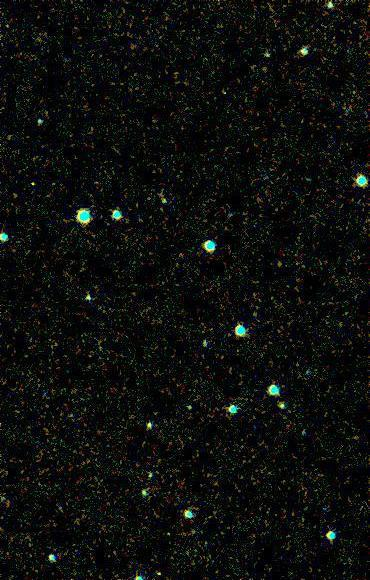star: (147, 557, 177, 580)
